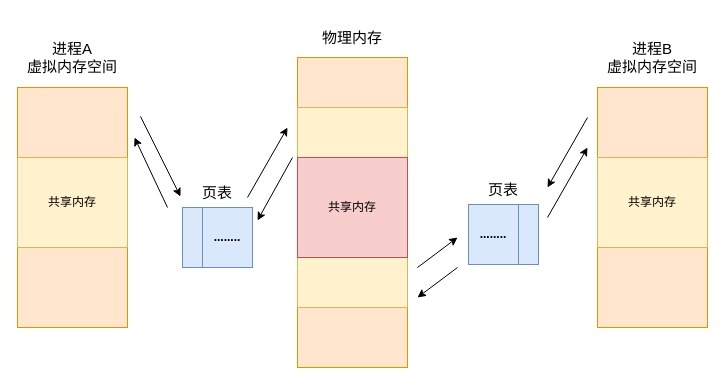
Image size: 725x385. Some labels were removed from this diagram. The centre of each missing label's shape, as x and y in pixels:
进程A 物理内存: [352,132]
进程B 物理内存: [352,282]
